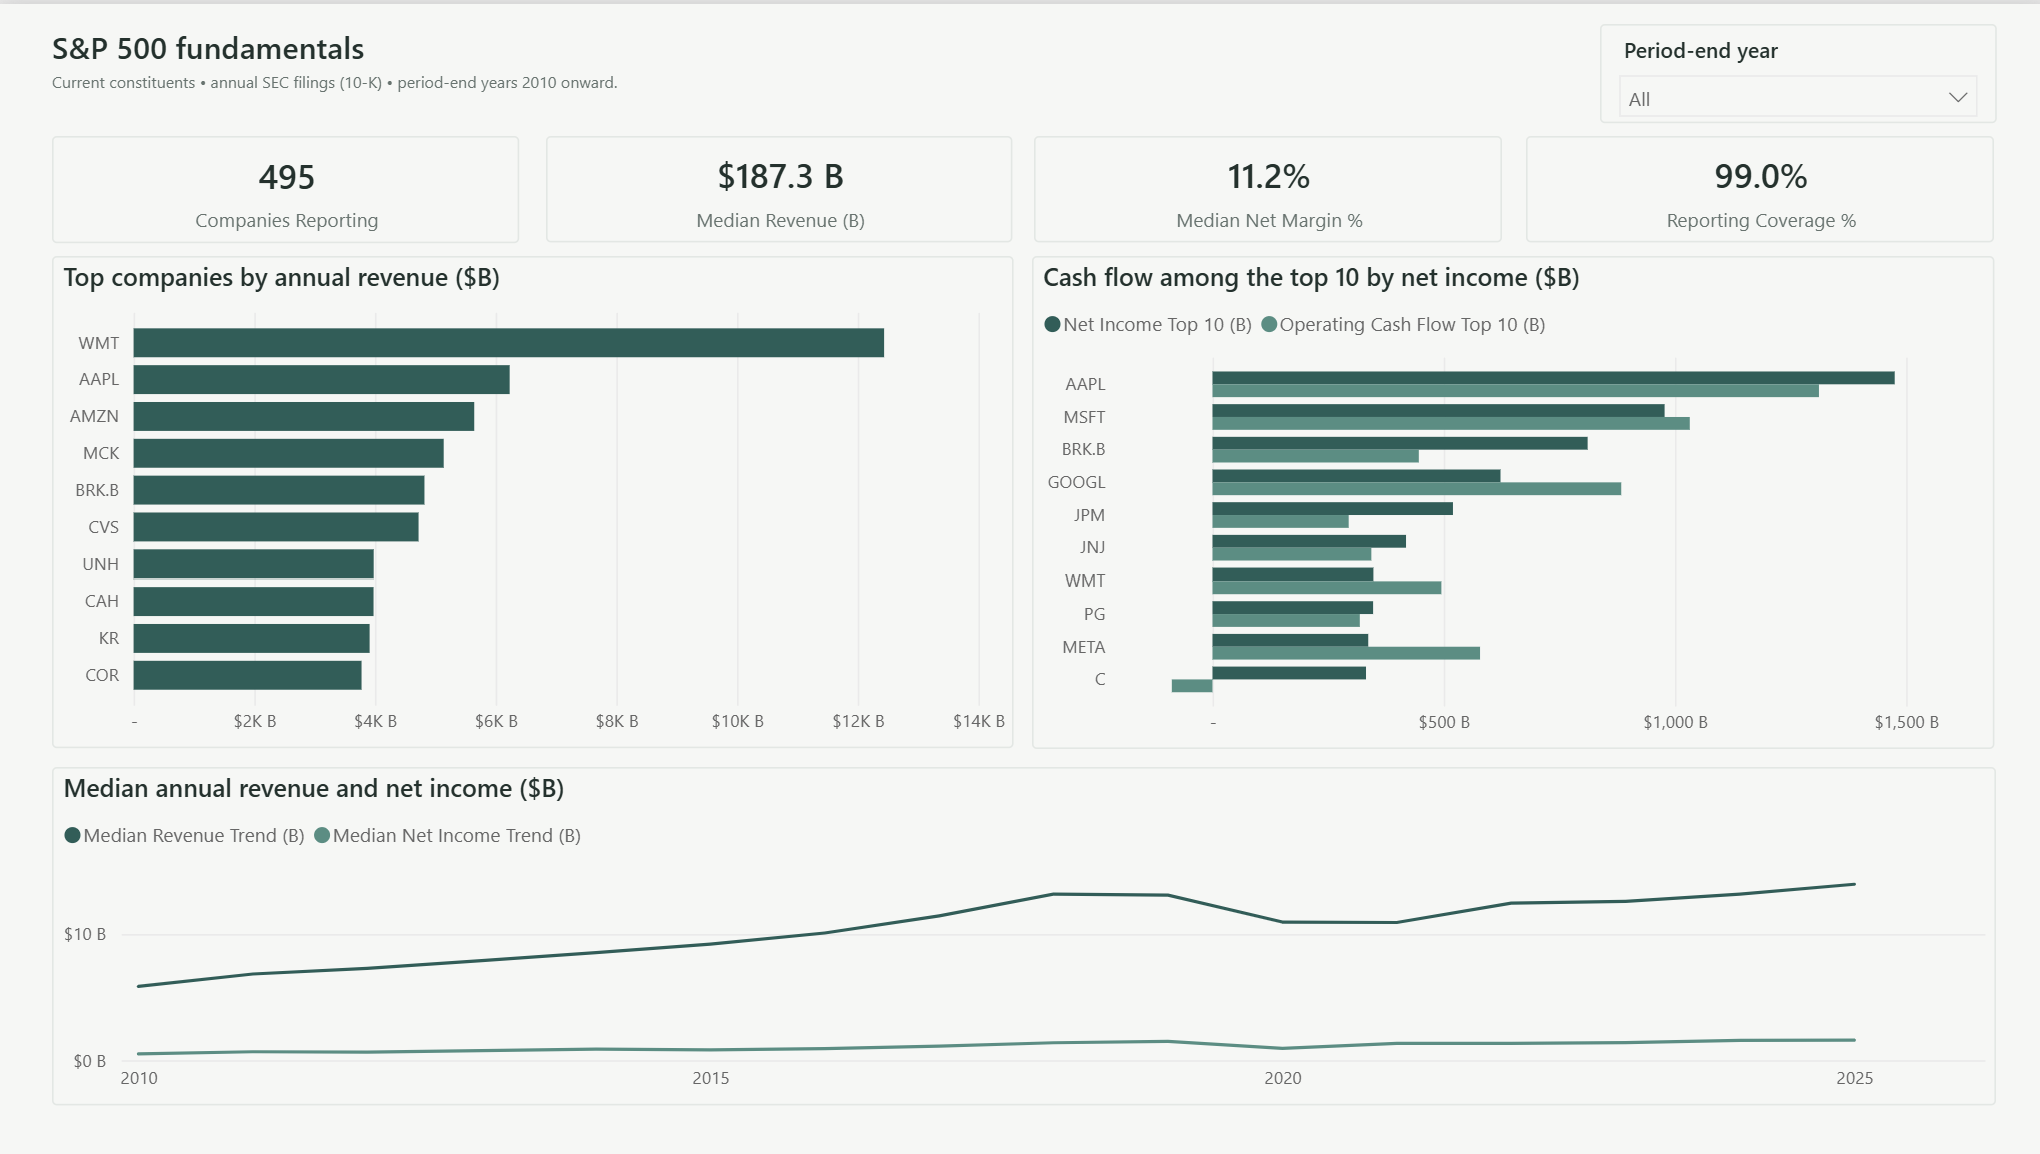

Layout of this report page (visuals, bound fields, positions):
{"tool":"powerbi","page":{"name":"S&P 500 overview","canvas":[1280,720],"ordinal":0},"visuals":[{"type":"slicer","fields":{"Values":["dim_reporting_period.calendar_year"]},"box":[1000,12,248,62],"z":0},{"type":"card","fields":{"Values":["fact_financial_metric.Companies Reporting"]},"box":[32,82,292,67],"z":0},{"type":"card","fields":{"Values":["fact_financial_metric.Median Revenue (B)"]},"box":[341.2,82.5,291.2,66.2],"z":0},{"type":"card","fields":{"Values":["fact_financial_metric.Median Net Margin %"]},"box":[646.2,82.5,292.5,66.2],"z":0},{"type":"card","fields":{"Values":["fact_financial_metric.Reporting Coverage %"]},"box":[953.8,82.5,292.5,66.2],"z":0},{"type":"clusteredBarChart","title":"Top companies by annual revenue ($B)","fields":{"Category":["dim_company.ticker"],"Y":["fact_financial_metric.Revenue Top 10 (B)"]},"box":[32.5,157.5,601,307],"z":0},{"type":"clusteredBarChart","title":"Cash flow among the top 10 by net income ($B)","fields":{"Category":["dim_company.ticker"],"Y":["fact_financial_metric.Net Income Top 10 (B)","fact_financial_metric.Operating Cash Flow Top 10 (B)"]},"box":[645,157.5,601.2,307.5],"z":0},{"type":"lineChart","title":"Median annual revenue and net income ($B)","fields":{"Category":["DateTable.Year"],"Y":["fact_financial_metric.Median Revenue Trend (B)","fact_financial_metric.Median Net Income Trend (B)"]},"box":[32.5,476.2,1215,211.2],"z":0},{"type":"textbox","box":[32,14,820,54],"z":1000}]}

Visuals, with their boxes in screenshot pixels (x1, y1, x2, y2), scaled from the page's 1280x720 canvas onto the 2040x1154 screenshot:
slicer - dim_reporting_period.calendar_year: pyautogui.locateOnScreen(1594, 19, 1989, 119)
card - fact_financial_metric.Companies Reporting: pyautogui.locateOnScreen(51, 131, 516, 239)
card - fact_financial_metric.Median Revenue (B): pyautogui.locateOnScreen(544, 132, 1008, 238)
card - fact_financial_metric.Median Net Margin %: pyautogui.locateOnScreen(1030, 132, 1496, 238)
card - fact_financial_metric.Reporting Coverage %: pyautogui.locateOnScreen(1520, 132, 1986, 238)
"Top companies by annual revenue ($B)" clusteredBarChart: pyautogui.locateOnScreen(52, 252, 1010, 744)
"Cash flow among the top 10 by net income ($B)" clusteredBarChart: pyautogui.locateOnScreen(1028, 252, 1986, 745)
"Median annual revenue and net income ($B)" lineChart: pyautogui.locateOnScreen(52, 763, 1988, 1102)
textbox: pyautogui.locateOnScreen(51, 22, 1358, 109)
